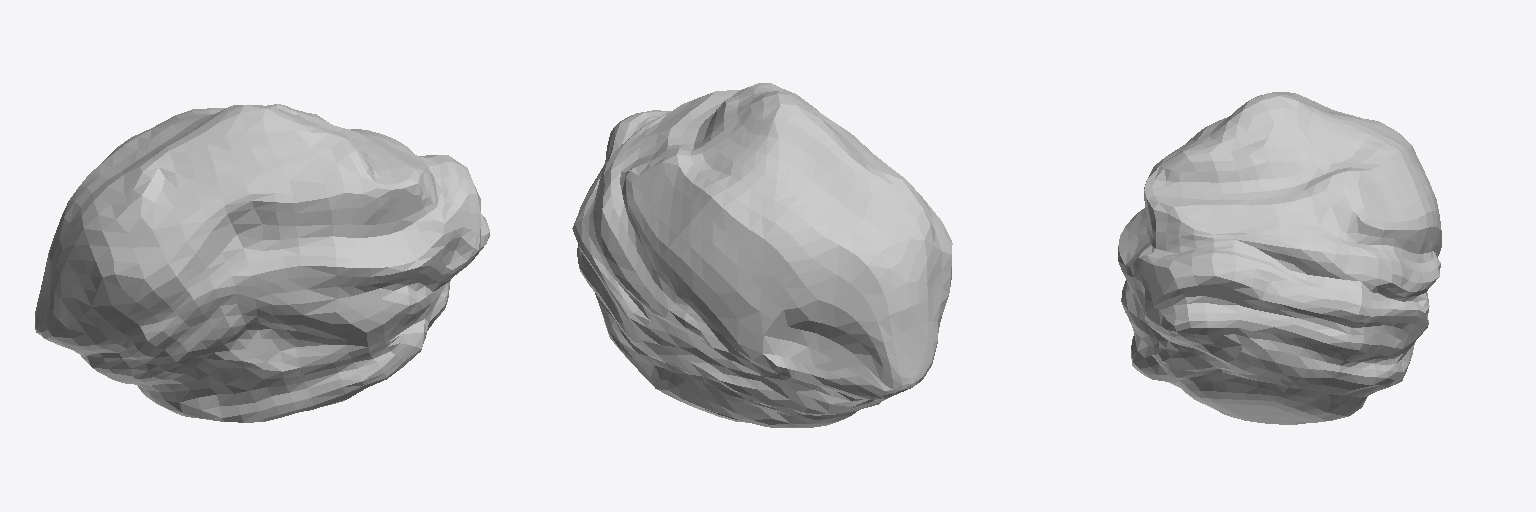
The model's file is rocktest_lp.obj.
3 views of the same model, side by side, from view 1: azimuth 30°, elevation 25°; view 2: azimuth 150°, elevation 25°; view 3: azimuth 270°, elevation 25° (orthographic).
Parts seen in each view (by area): view 1: rock_low_rock; view 2: rock_low_rock; view 3: rock_low_rock.
Boxes of the visible parts, x1=… form: rock_low_rock: x1=35, y1=104, x2=489, y2=422; rock_low_rock: x1=572, y1=83, x2=952, y2=427; rock_low_rock: x1=1118, y1=92, x2=1441, y2=424.
Size of the model in its own units: 24.77 by 19.69 by 18.69.